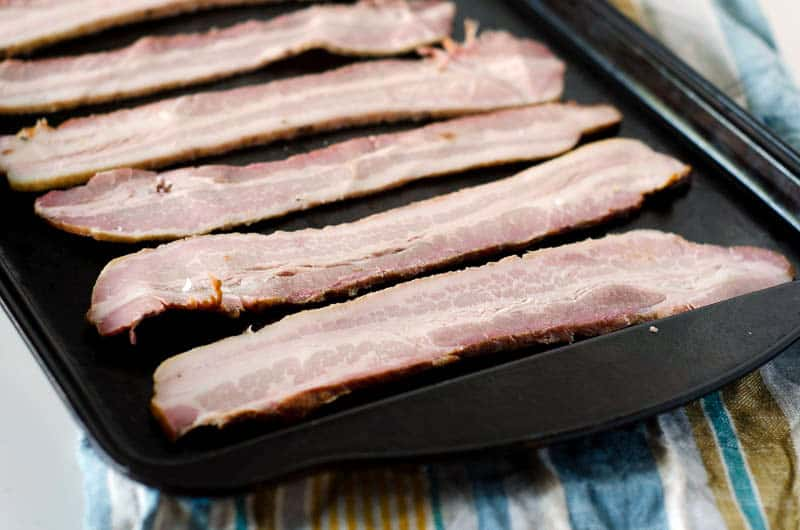bacon: (69, 1, 637, 445)
